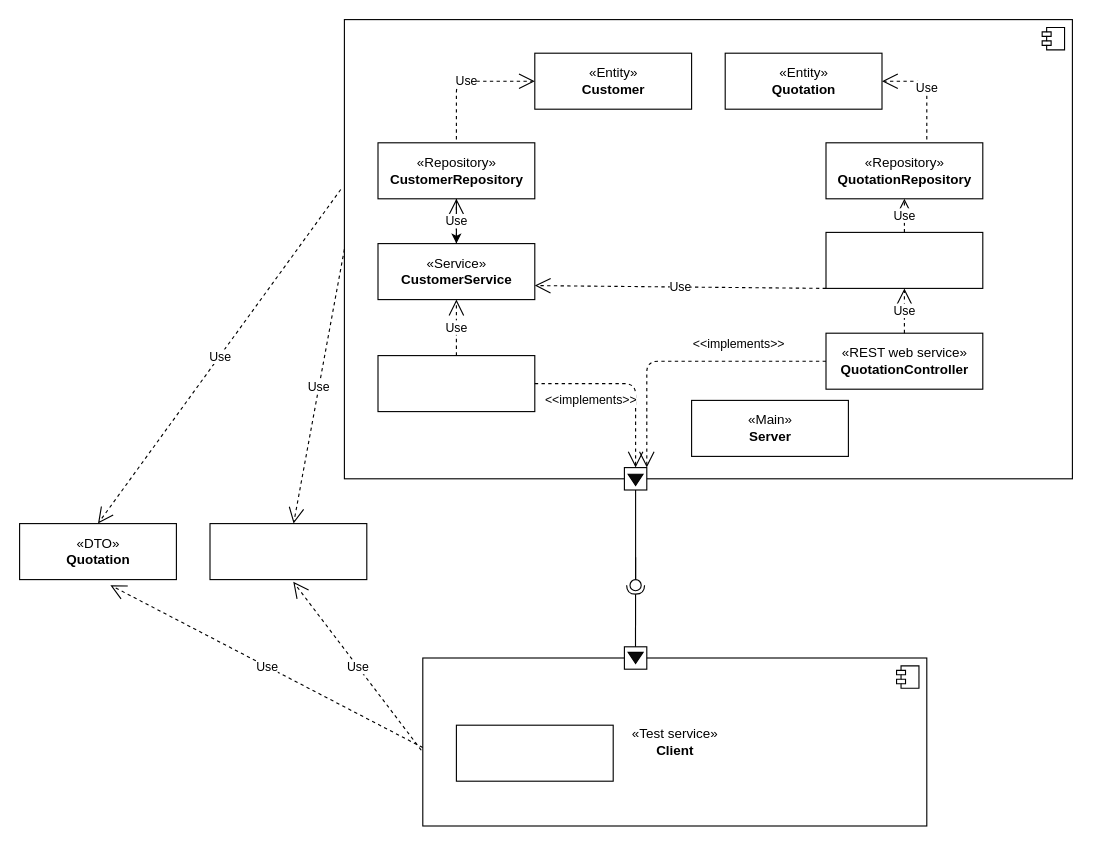
The diagram is 1101 pixels wide and 846 high, and some of its shapes have lost their labels. Here are the shapes that lost their labels. From the top down, the box of each, then its label:
(343, 18, 1072, 479): «API Gateway, Service» Server
(825, 231, 983, 288): «Service» QuotationService
(377, 354, 535, 412): «REST web service» CustomerController
(209, 522, 367, 580): «DTO» Customer
(455, 724, 613, 781): «Main» Client
